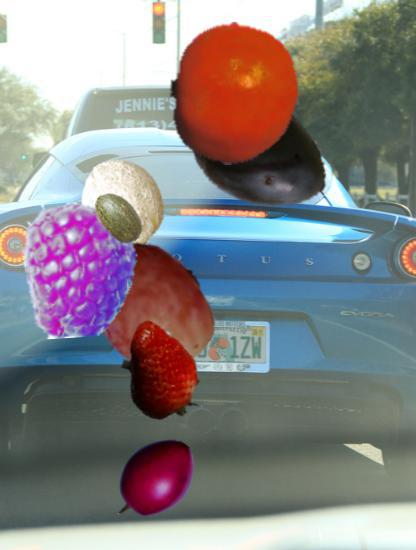Cantaloupe: (76, 158, 169, 251)
Clementine: (163, 22, 307, 166)
Grape: (81, 237, 220, 376)
Melon: (88, 191, 145, 248)
Plum: (190, 82, 334, 226)
Raspberry: (14, 202, 149, 337)
Strawberry: (118, 327, 213, 422)
Tamarillo: (106, 433, 202, 529)
